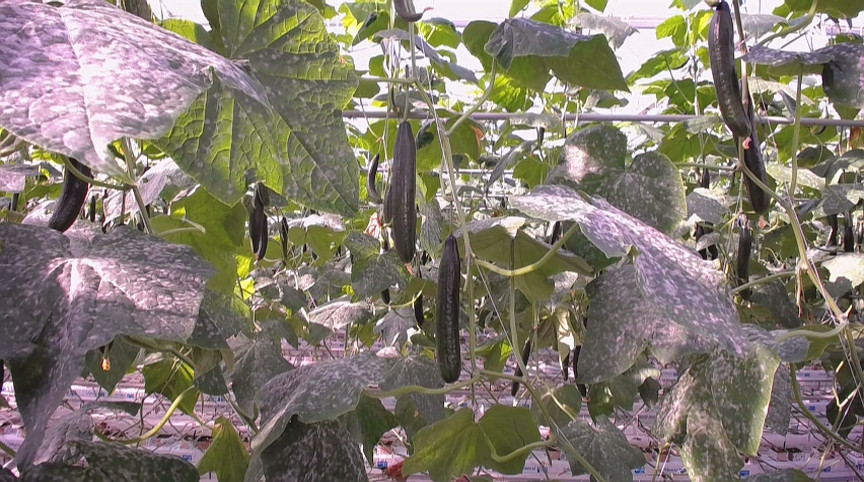cucumber: (710, 3, 753, 138), (438, 237, 463, 383), (392, 121, 415, 263), (50, 157, 91, 234), (742, 135, 770, 215), (248, 194, 265, 252)
